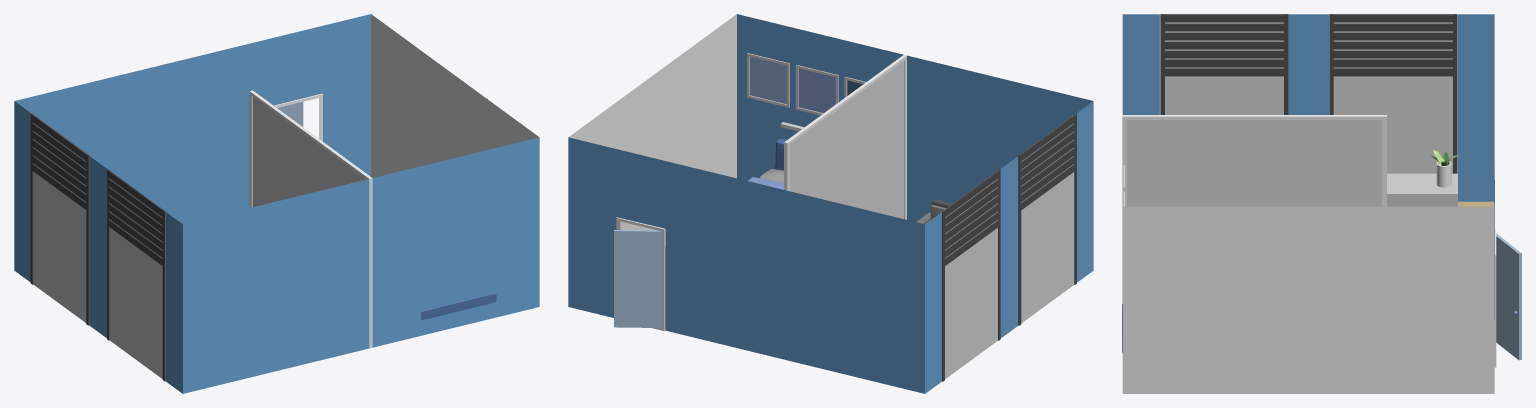
File: Appartment room v2.fbx
3 renders of one model, left to right at view 1: azimuth 30°, elevation 25°; view 2: azimuth 150°, elevation 25°; view 3: azimuth 270°, elevation 25°, orthographic. The views are drawn at different scales.
Visible parts, largest first — view 1: Floor, windows, Devide wall.001, Cube.001, Cube.004, Devide wall, Bed; view 2: Floor, windows, Devide wall.001, Cylinder, Cube.004, Cube.001, Plane.009, Plane.010, Devide wall, Bed; view 3: Floor, Devide wall.001, windows, Cube.001, Cube.004, Cylinder, Devide wall, Kast 2, Cylinder.001.
Boxes of the visible parts, x1,y1,x2,y2 form: Floor: (14, 14, 539, 393); windows: (33, 123, 165, 381); Devide wall.001: (252, 97, 365, 206); Cube.001: (30, 113, 89, 325); Cube.004: (107, 169, 166, 381); Devide wall: (249, 90, 372, 348); Bed: (421, 294, 496, 319); Floor: (568, 14, 1093, 393); windows: (945, 123, 1074, 378); Devide wall.001: (789, 61, 903, 218); Cylinder: (614, 229, 662, 327); Cube.004: (1018, 113, 1076, 325); Cube.001: (941, 169, 1000, 381); Plane.009: (747, 53, 789, 107); Plane.010: (795, 65, 838, 115); Devide wall: (784, 54, 906, 219); Bed: (748, 139, 786, 189); Floor: (1122, 14, 1496, 393); Devide wall.001: (1127, 120, 1381, 206); windows: (1159, 14, 1457, 173); Cube.001: (1329, 14, 1456, 173); Cube.004: (1160, 14, 1288, 114); Cylinder: (1496, 233, 1521, 360); Devide wall: (1122, 115, 1386, 303); Kast 2: (1387, 173, 1457, 206); Cylinder.001: (1431, 150, 1458, 187).
Size of the model in its own units: 1103 by 502 by 967.
